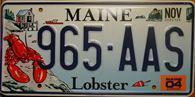placa de veiculo: (1, 1, 191, 96)
